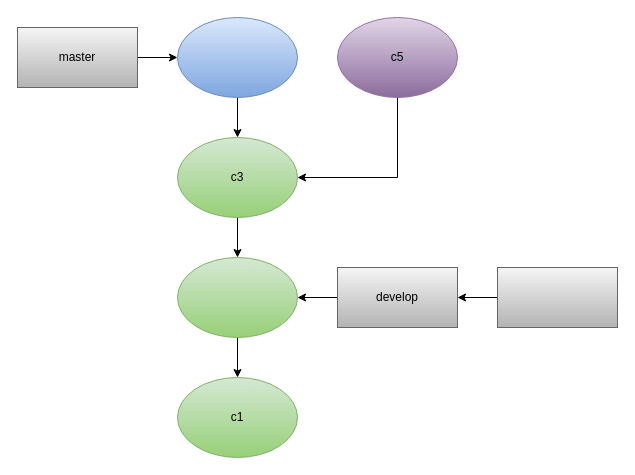
Image size: 635x475. Some labels were removed from this diagram. Each missing label, with the box of its shape:
c2: (176, 256, 298, 338)
c4: (176, 16, 298, 98)
HEAD: (496, 266, 618, 328)
